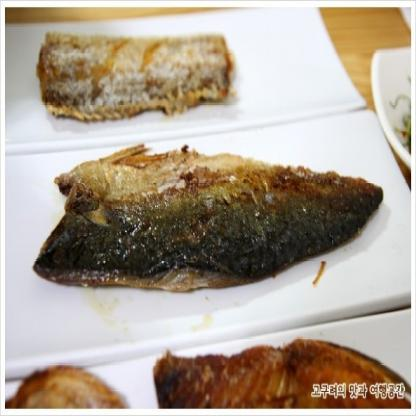Peixe: (39, 119, 395, 335)
